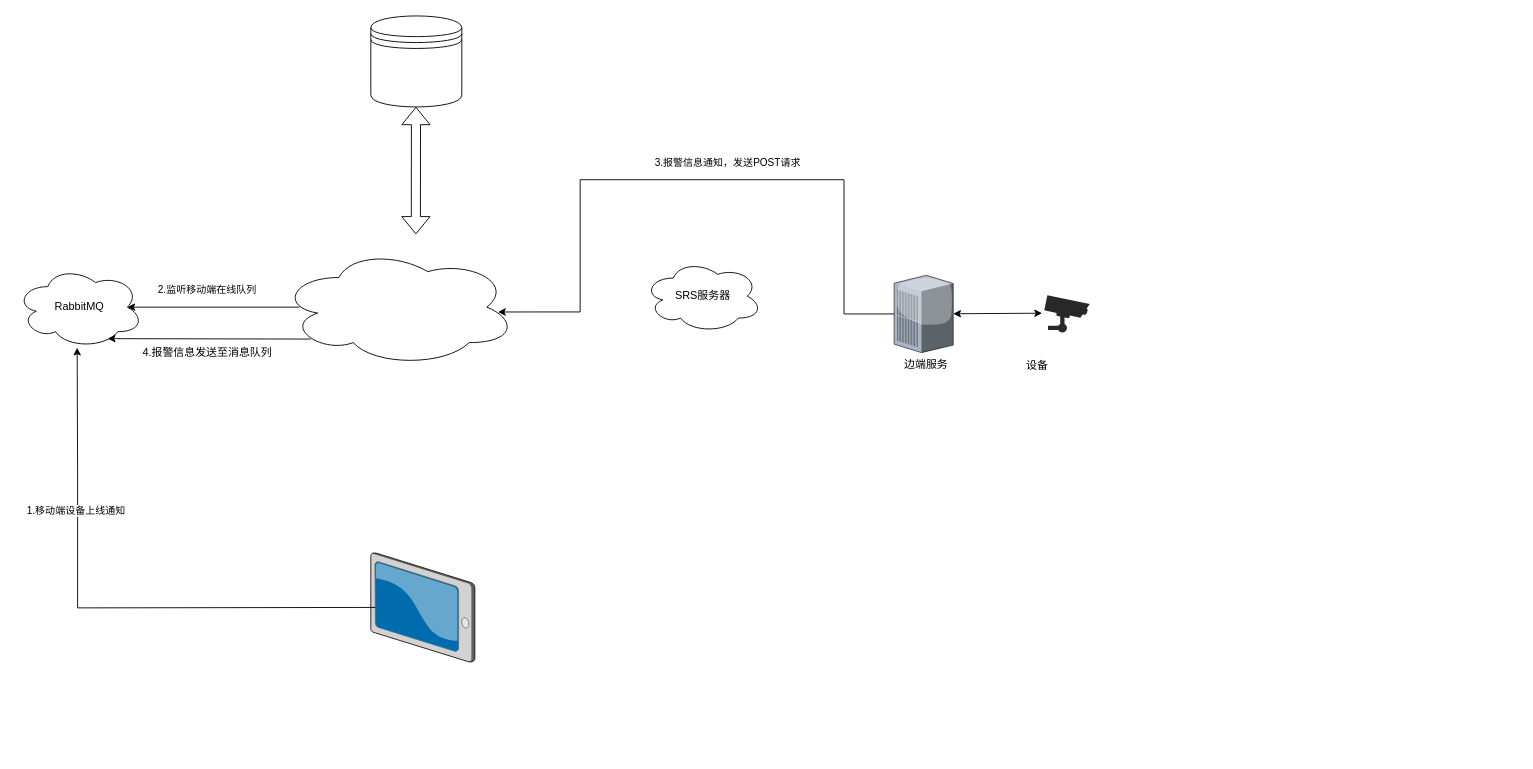
The diagram is 1533 pixels wide and 769 high, and some of its shapes have lost their labels. The box of each missing label's shape, as (x1, y1, x2, y2) in pixels:
云服务器: (279, 247, 516, 366)
数据源: (370, 15, 462, 107)
